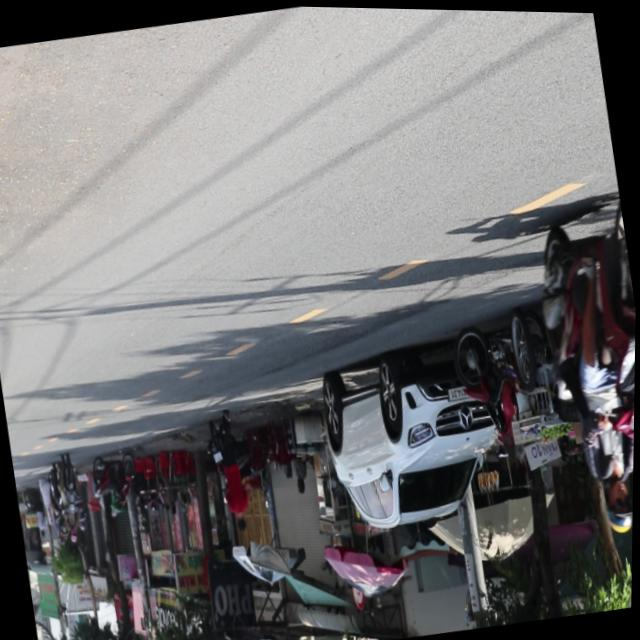helmet: (599, 470, 635, 533)
licenseplate: (520, 189, 638, 542)
